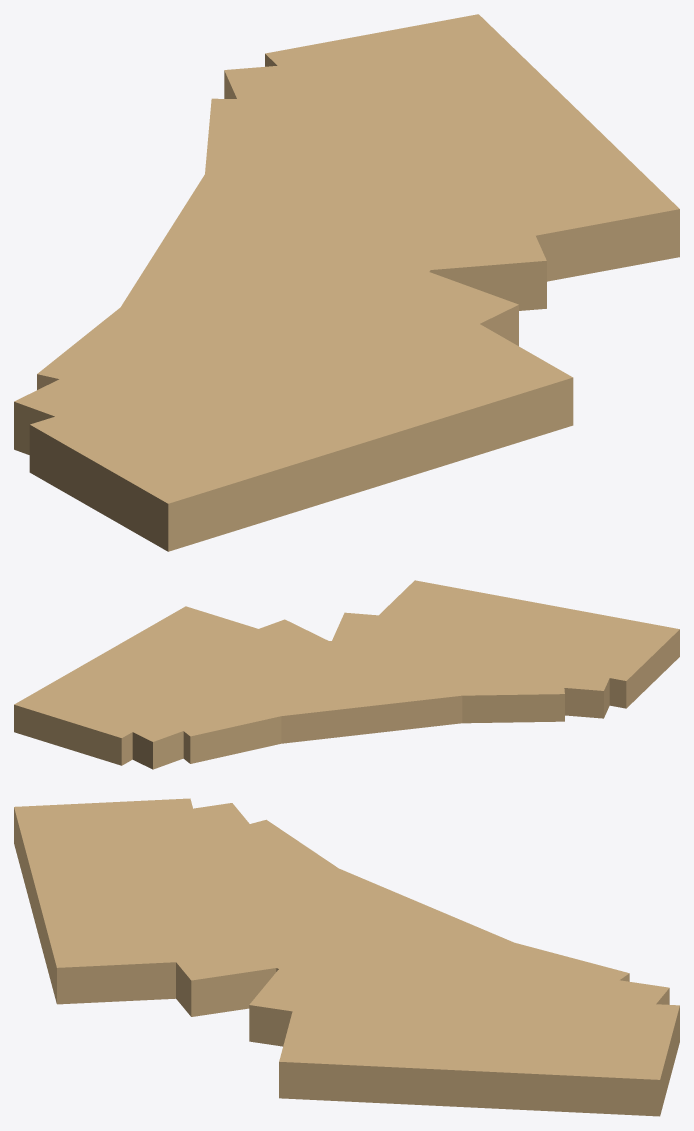
Rendered from SM_Road_Curve.fbx.
The picture shows the model from 3 angles, top to bottom: view 1: azimuth 30°, elevation 25°; view 2: azimuth 150°, elevation 25°; view 3: azimuth 270°, elevation 25°; orthographic projection. The views are drawn at different scales.
Parts seen in each view (by area): view 1: SM_Road_Curve; view 2: SM_Road_Curve; view 3: SM_Road_Curve.
Part boxes in pixels (x1=…): SM_Road_Curve: x1=14, y1=14, x2=679, y2=551; SM_Road_Curve: x1=14, y1=580, x2=679, y2=769; SM_Road_Curve: x1=14, y1=798, x2=679, y2=1116.
Bounding box in the file's own units: 1.65 × 0.1 × 1.65.
